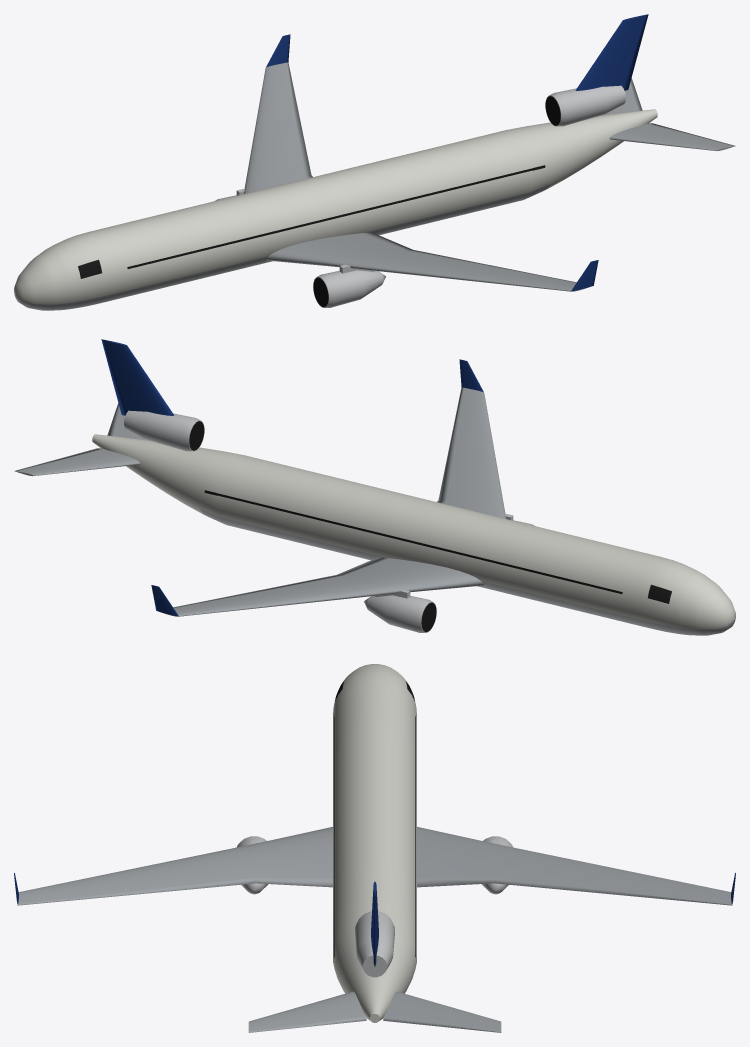
3 renders of one model, top to bottom at view 1: azimuth 30°, elevation 25°; view 2: azimuth 150°, elevation 25°; view 3: azimuth 270°, elevation 25°, orthographic. The views are drawn at different scales.
Visible parts, largest first — view 1: md11; view 2: md11; view 3: md11.
Boxes of the visible parts, x1,y1,x2,y2 form: md11: [14, 14, 735, 310]; md11: [14, 339, 735, 635]; md11: [14, 664, 735, 1032].
Bounding box in the file's own units: 64.15 × 15.04 × 51.48.
